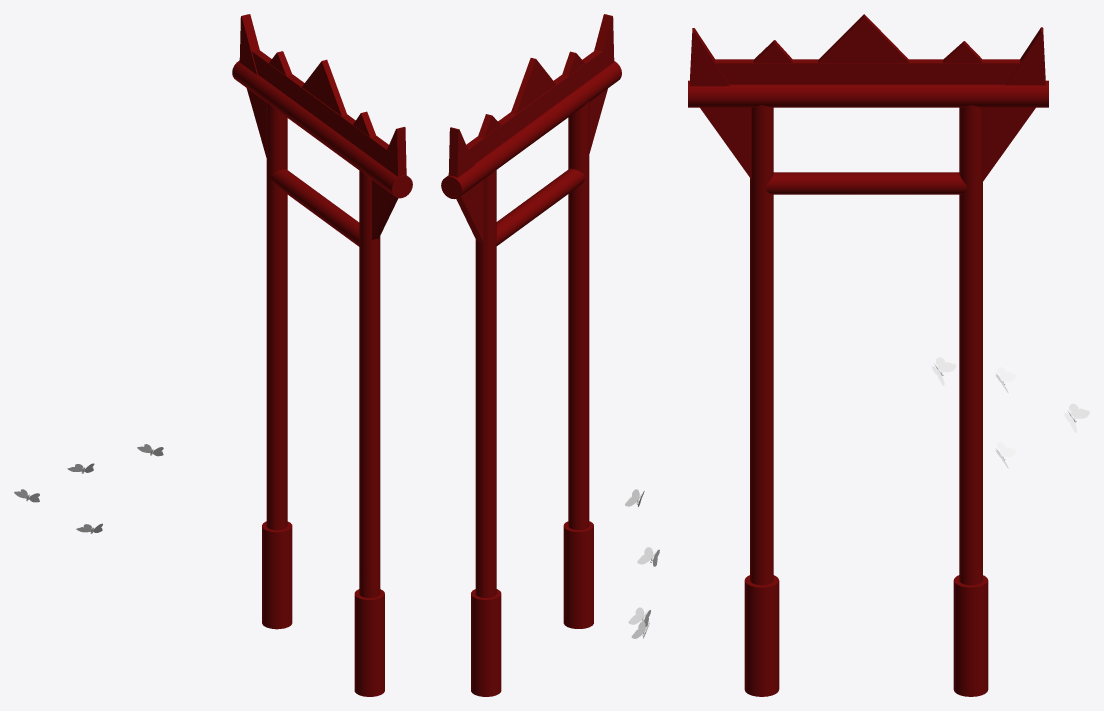
Rendered from sao.glb.
The picture shows the model from 3 angles, left to right: view 1: azimuth 30°, elevation 25°; view 2: azimuth 150°, elevation 25°; view 3: azimuth 270°, elevation 25°; orthographic projection. The views are drawn at different scales.
Parts seen in each view (by area): view 1: pCylinder7.001, pCylinder1.001, pCylinder6.001, pCylinder8.001, pCylinder3.001, pCube7.001, pCylinder5.001, pCube10.001, pCube4.001, pCube6.001, pCube5.001, pCube3.001; view 2: pCylinder1.001, pCylinder7.001, pCylinder6.001, pCylinder8.001, pCylinder3.001, pCube7.001, pCylinder5.001, pCube10.001, pCube3.001, pCube6.001, pCube5.001, pCube4.001; view 3: pCylinder1.001, pCylinder7.001, pCylinder6.001, pCube7.001, pCylinder5.001, pCylinder8.001, pCylinder3.001, pCube10.001, pCube3.001, pCube4.001, pCube5.001, pCube6.001.
Part boxes in pixels (bbox=[...]): pCylinder7.001: bbox=[266, 102, 287, 530]; pCylinder1.001: bbox=[359, 170, 380, 597]; pCylinder6.001: bbox=[232, 60, 412, 198]; pCylinder8.001: bbox=[262, 521, 292, 629]; pCylinder3.001: bbox=[354, 589, 384, 696]; pCube7.001: bbox=[252, 49, 392, 172]; pCylinder5.001: bbox=[270, 169, 359, 246]; pCube10.001: bbox=[302, 59, 347, 116]; pCube4.001: bbox=[372, 180, 398, 239]; pCube6.001: bbox=[239, 14, 259, 75]; pCube5.001: bbox=[387, 127, 406, 176]; pCube3.001: bbox=[246, 88, 266, 157]; pCylinder1.001: bbox=[568, 102, 589, 529]; pCylinder7.001: bbox=[475, 170, 496, 597]; pCylinder6.001: bbox=[441, 61, 621, 199]; pCylinder8.001: bbox=[471, 589, 501, 696]; pCylinder3.001: bbox=[563, 521, 593, 628]; pCube7.001: bbox=[466, 48, 608, 163]; pCylinder5.001: bbox=[496, 168, 585, 245]; pCube10.001: bbox=[511, 58, 556, 113]; pCube3.001: bbox=[456, 179, 483, 242]; pCube6.001: bbox=[448, 127, 474, 177]; pCube5.001: bbox=[594, 14, 614, 65]; pCube4.001: bbox=[589, 88, 607, 153]; pCylinder1.001: bbox=[750, 105, 773, 585]; pCylinder7.001: bbox=[959, 105, 982, 585]; pCylinder6.001: bbox=[688, 80, 1048, 107]; pCube7.001: bbox=[715, 59, 1020, 84]; pCylinder5.001: bbox=[765, 172, 967, 194]; pCylinder8.001: bbox=[953, 575, 988, 696]; pCylinder3.001: bbox=[744, 575, 779, 696]; pCube10.001: bbox=[818, 14, 909, 62]; pCube3.001: bbox=[981, 107, 1035, 182]; pCube4.001: bbox=[700, 107, 751, 179]; pCube5.001: bbox=[689, 28, 729, 86]; pCube6.001: bbox=[1006, 27, 1045, 85].
Size of the model in its own units: 12.41 by 31.62 by 17.09.
